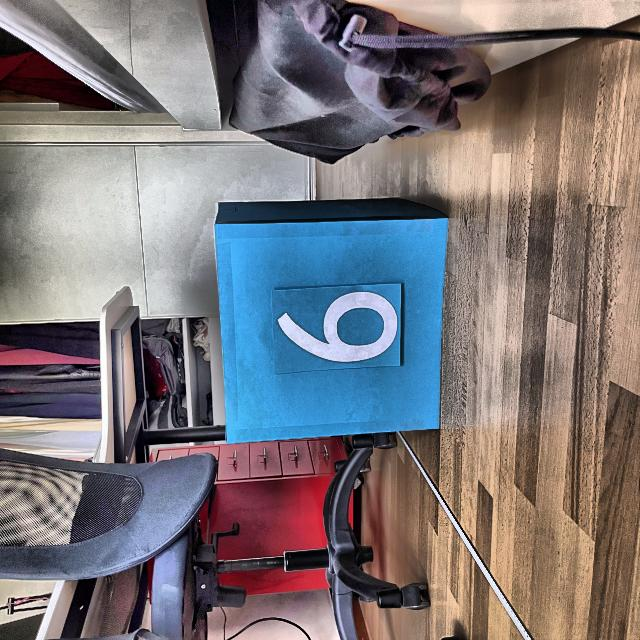blue box: (214, 195, 448, 453)
six: (274, 284, 408, 370)
